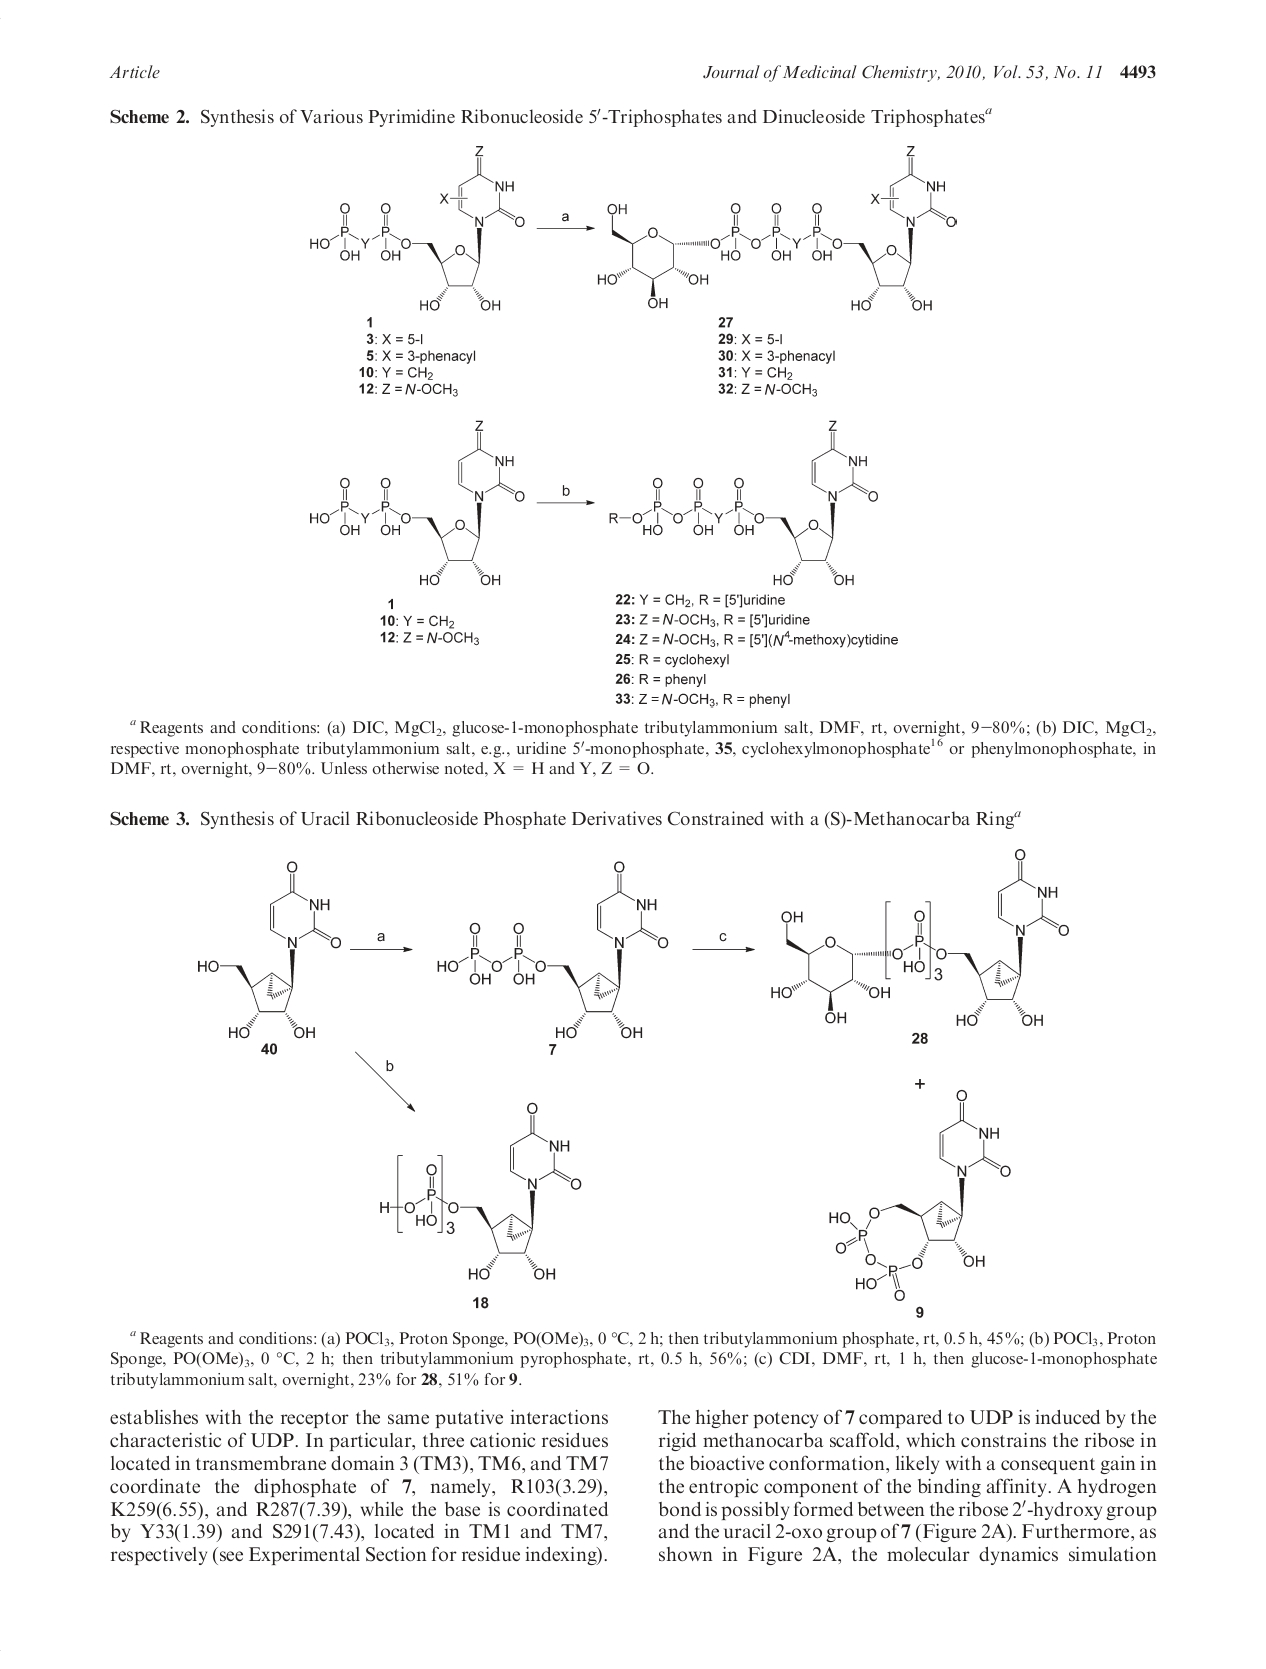exist_molecular: (596, 144, 961, 310), (769, 847, 1072, 1025), (609, 418, 879, 586), (435, 860, 672, 1039), (824, 1088, 1015, 1301), (376, 1100, 586, 1283), (309, 419, 527, 589), (309, 144, 524, 310), (195, 860, 342, 1039)
